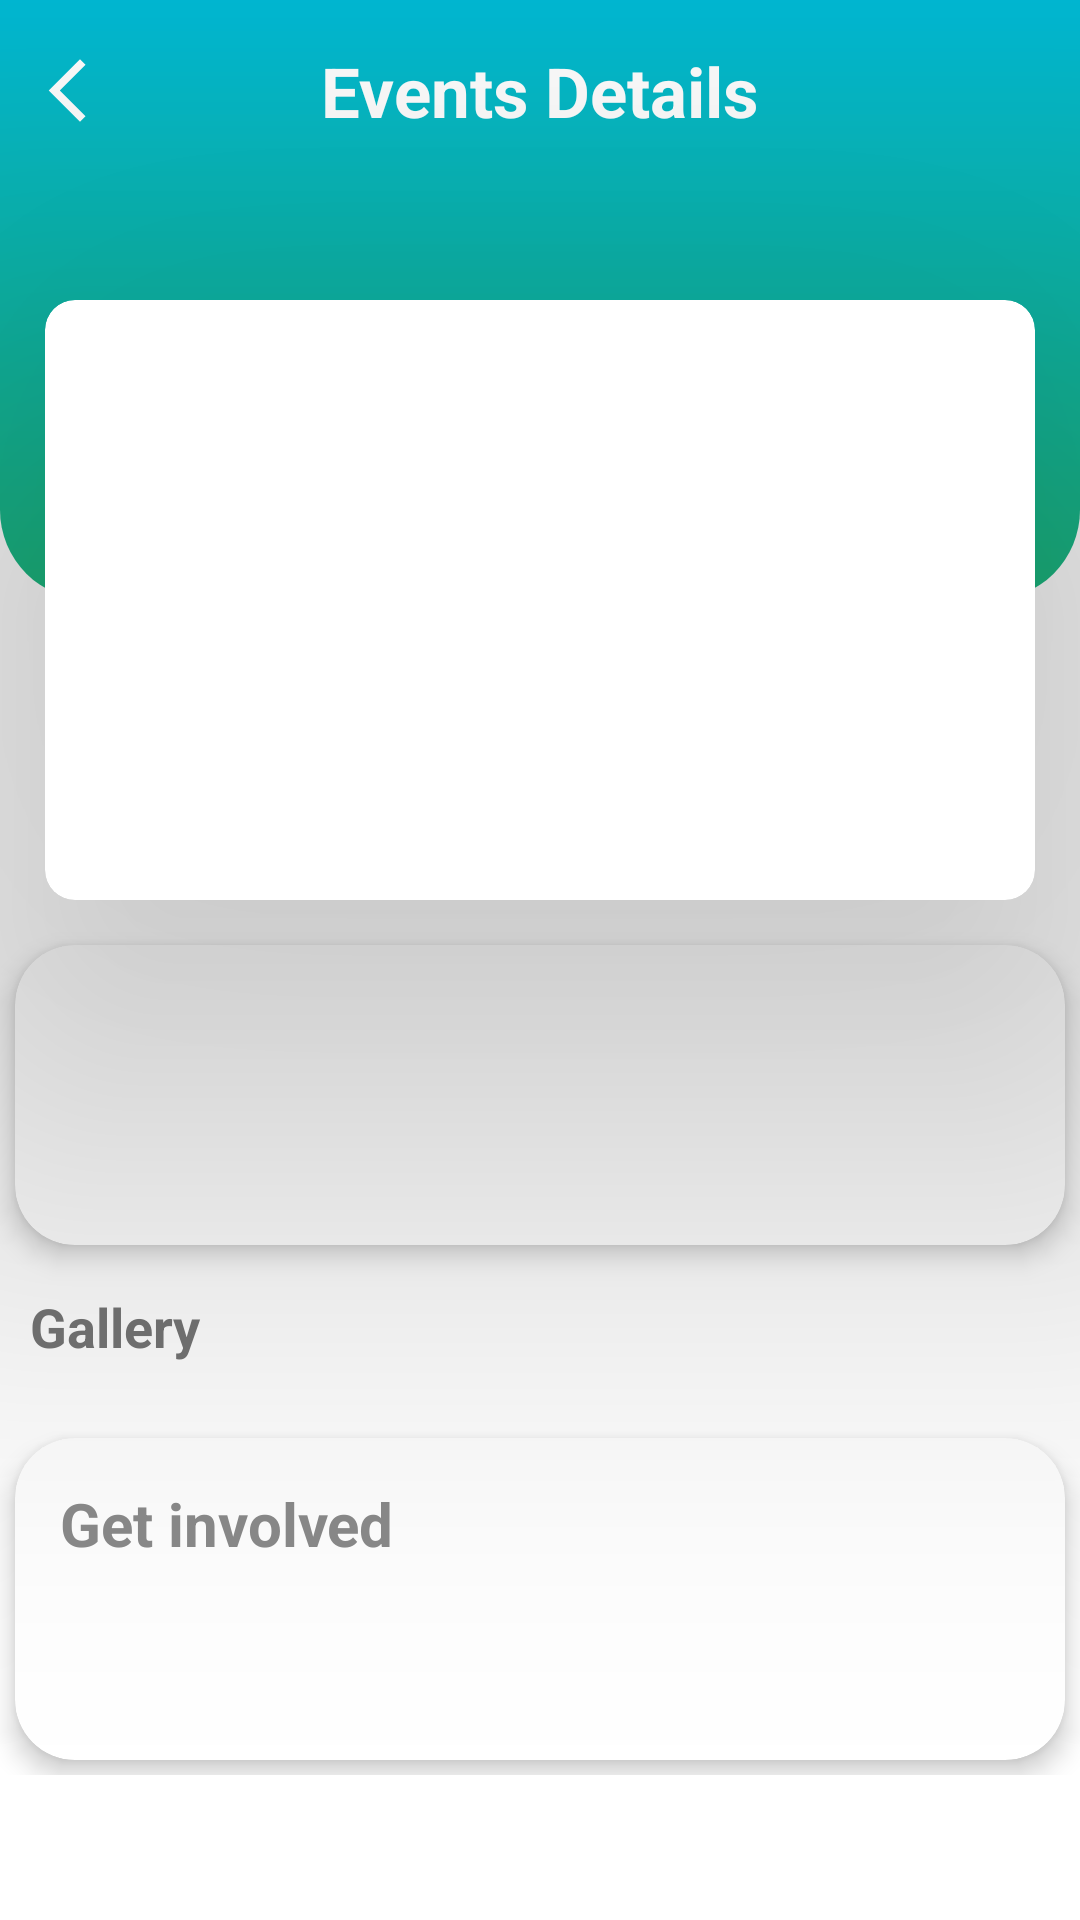

Locate icon controls on the screen. Image size 1080×1920, boxes as (x1, y1, x2, y2).
back: (49, 59, 86, 122)
